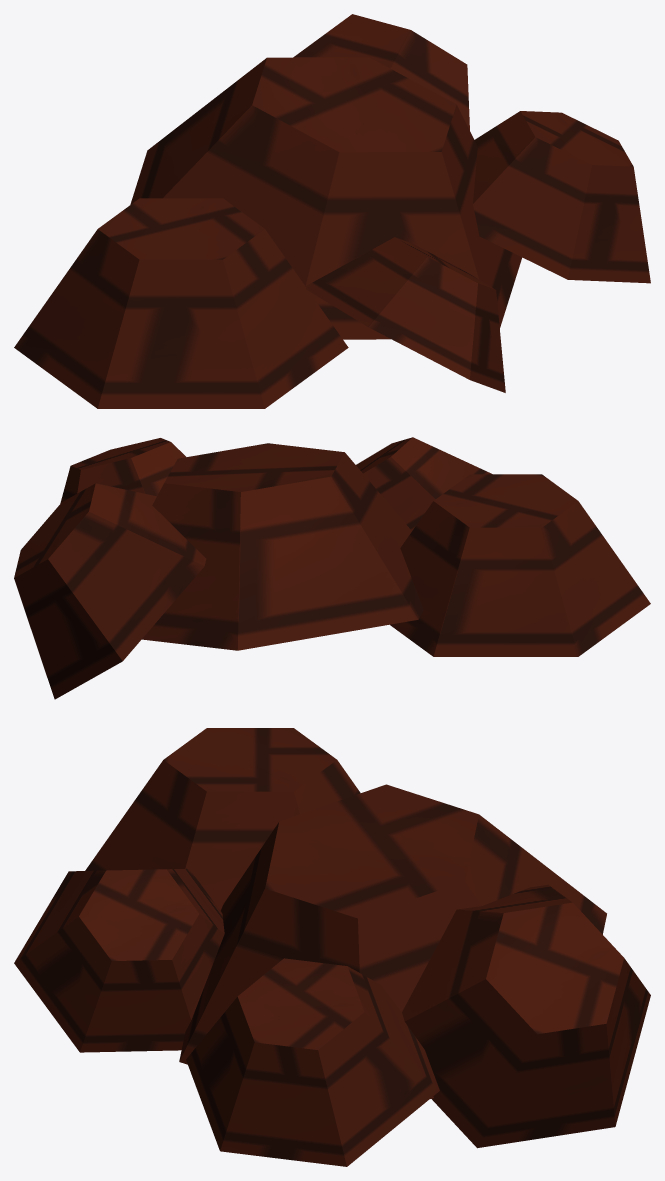
File: SM_FC_RubbleCluster.fbx
3 views of the same model, one above another, from view 1: azimuth 30°, elevation 25°; view 2: azimuth 150°, elevation 25°; view 3: azimuth 270°, elevation 25° (orthographic). The views are drawn at different scales.
Parts seen in each view (by area): view 1: SM_FC_RubbleCluster; view 2: SM_FC_RubbleCluster; view 3: SM_FC_RubbleCluster.
Boxes of the visible parts, box(x1,y1,x2,y2) form: SM_FC_RubbleCluster: box(14, 14, 650, 408); SM_FC_RubbleCluster: box(14, 437, 650, 699); SM_FC_RubbleCluster: box(14, 728, 650, 1166).
Size of what is drawn, in the model's own units: 1.94 by 0.6916 by 1.68.
